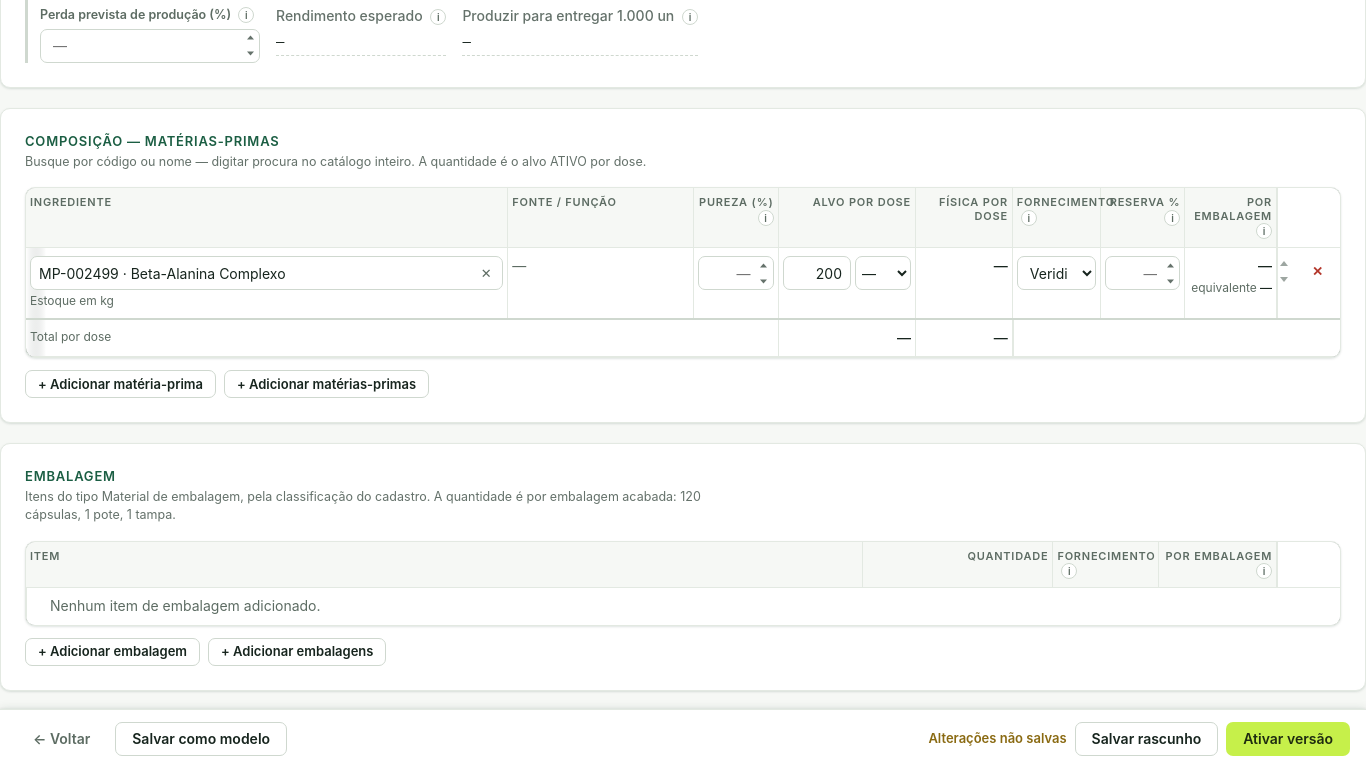
Test: Formulação — busca de matéria-prima no servidor › inelegível continua inelegível: inativo, acabado e item de outra linha ficam fora
(page scrolled)
Click the button "+ Adicionar matéria-prima".
click(120, 384)  # box [25,370,216,398]
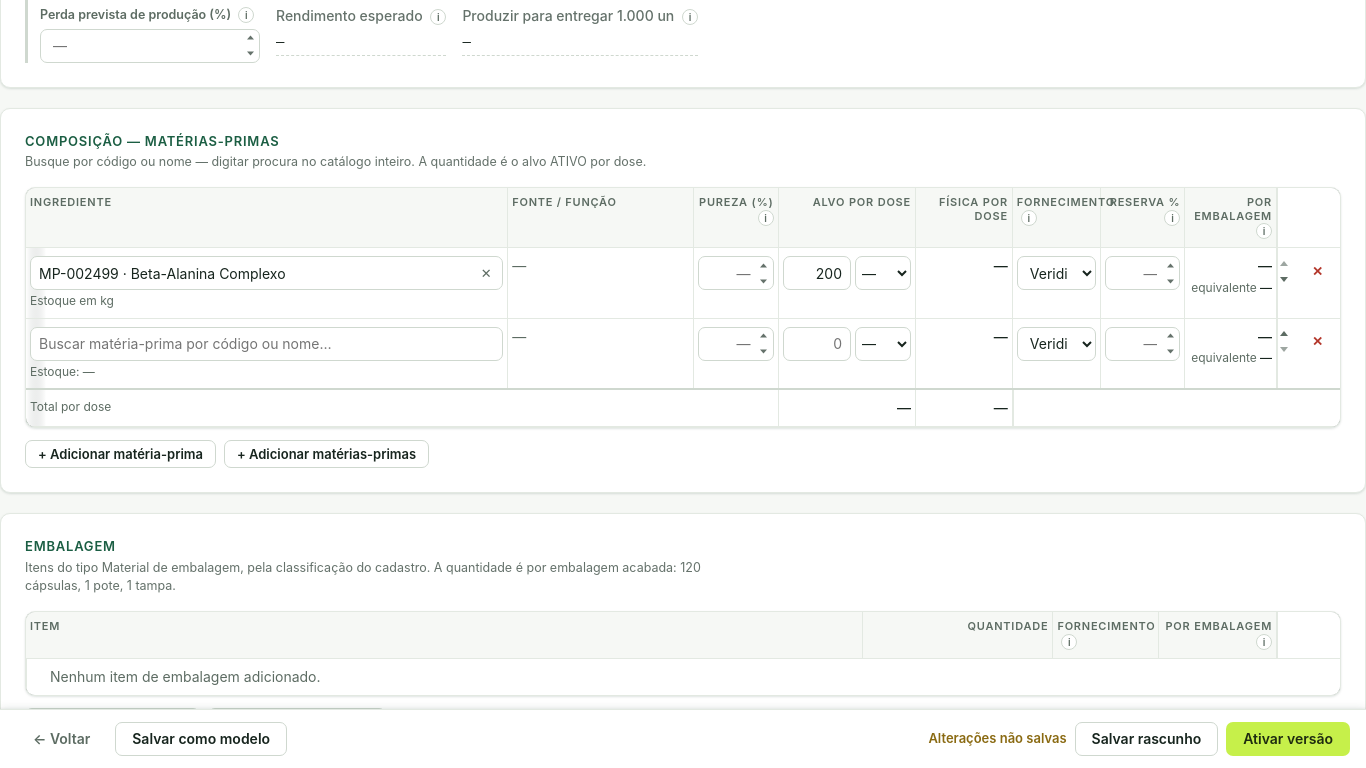
Focus the dropdown with placeholder "Buscar matéria-prima por código ou nome…" at (267, 344), box [30,327,503,361]
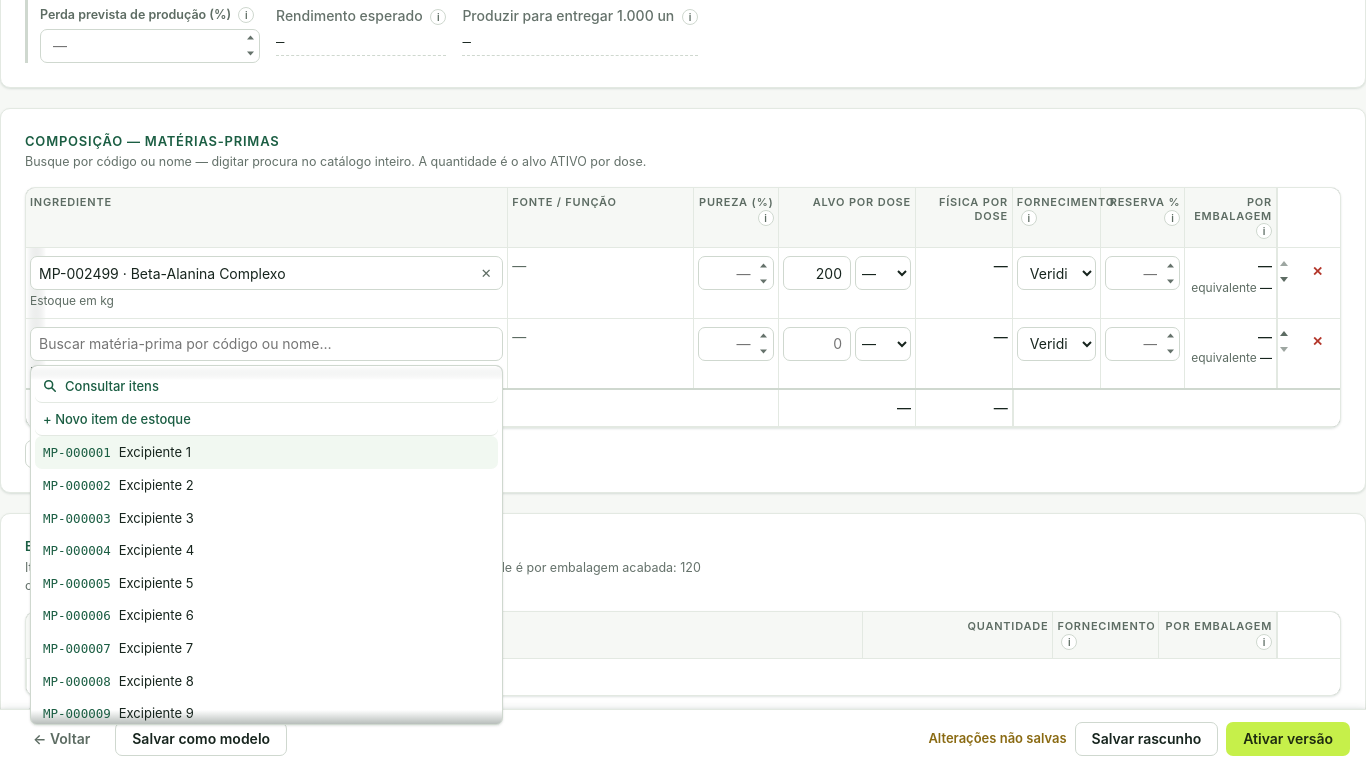
Expected: the option "MP-000001 Excipiente 1" is shown, [35,436,498,469]
Type "Beta-Alanina" into the dropdown with placeholder "Buscar matéria-prima por código ou nome…".
click(267, 344); type("Beta-Alanina")  # box [30,327,503,361]
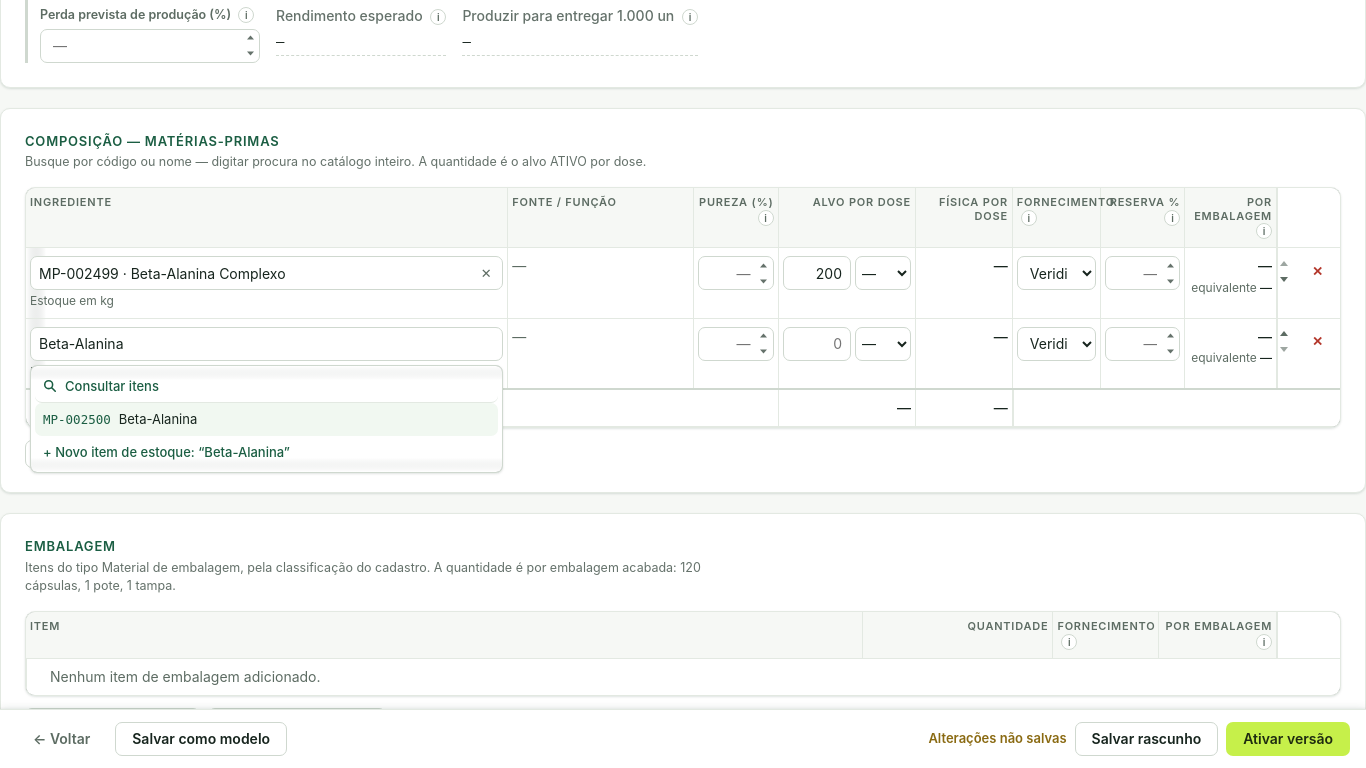
Expected: the option "MP-002500 Beta-Alanina" is shown, [35,403,498,436]
